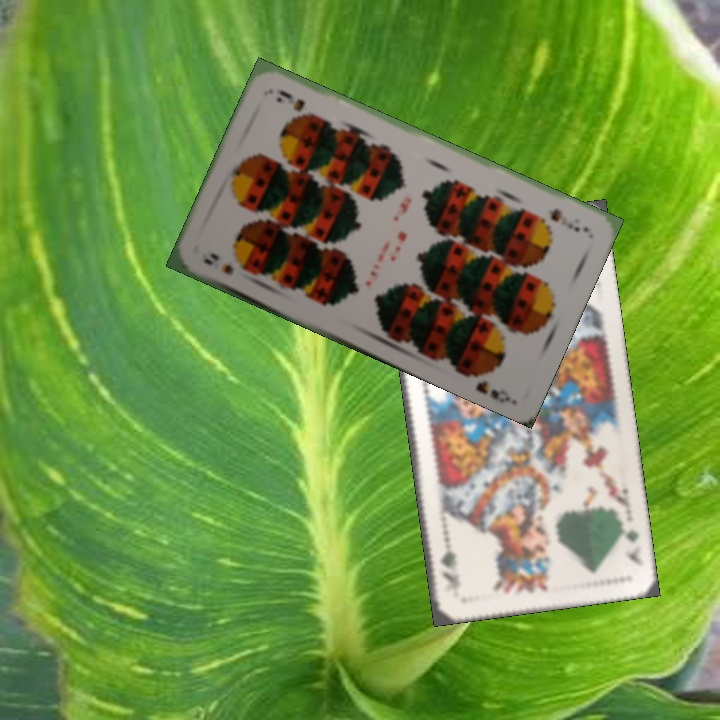GK: (614, 515, 645, 568)
S9: (545, 204, 591, 235), (200, 249, 236, 278)
